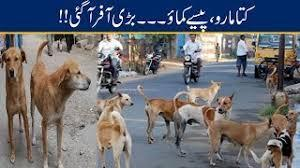dog_aggressive: (1, 44, 34, 168)
normal_dogs: (28, 39, 92, 168), (172, 84, 234, 160), (136, 82, 204, 141), (205, 104, 269, 160), (93, 93, 133, 168), (258, 126, 298, 168), (96, 90, 138, 119), (273, 102, 300, 142), (185, 80, 226, 106)
